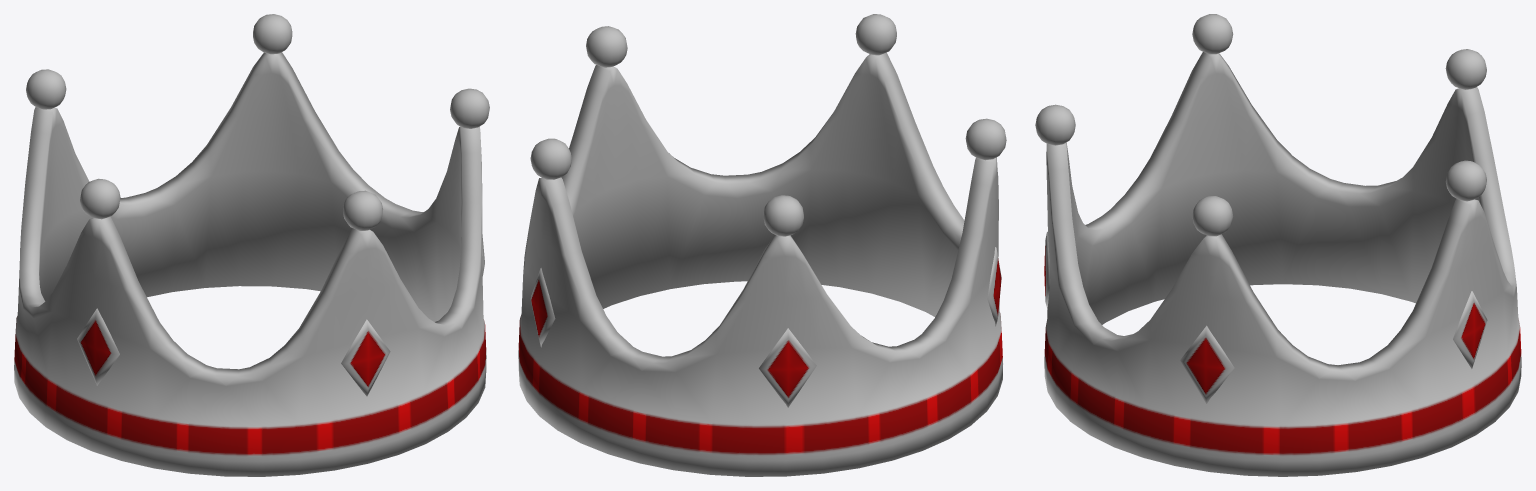
The model's file is Crown Silver.fbx.
3 renders of one model, left to right at view 1: azimuth 30°, elevation 25°; view 2: azimuth 150°, elevation 25°; view 3: azimuth 270°, elevation 25°, orthographic. The views are drawn at different scales.
Visible parts, largest first — view 1: Crown Silver; view 2: Crown Silver; view 3: Crown Silver.
Boxes of the visible parts, <box> form: Crown Silver: <box>14,14,489,476</box>; Crown Silver: <box>518,14,1006,476</box>; Crown Silver: <box>1035,14,1521,476</box>.
Size of the model in its own units: 40.07 by 24.96 by 40.82.
